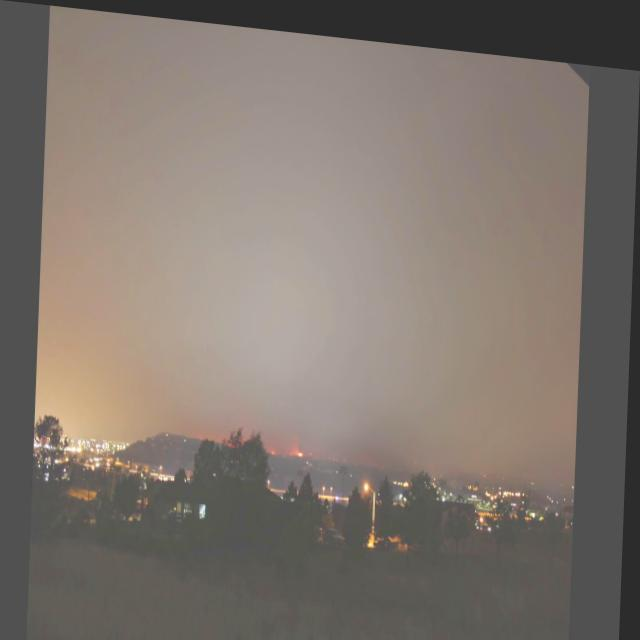Fire: (37, 6, 590, 507), (301, 442, 307, 450), (274, 442, 279, 448)
